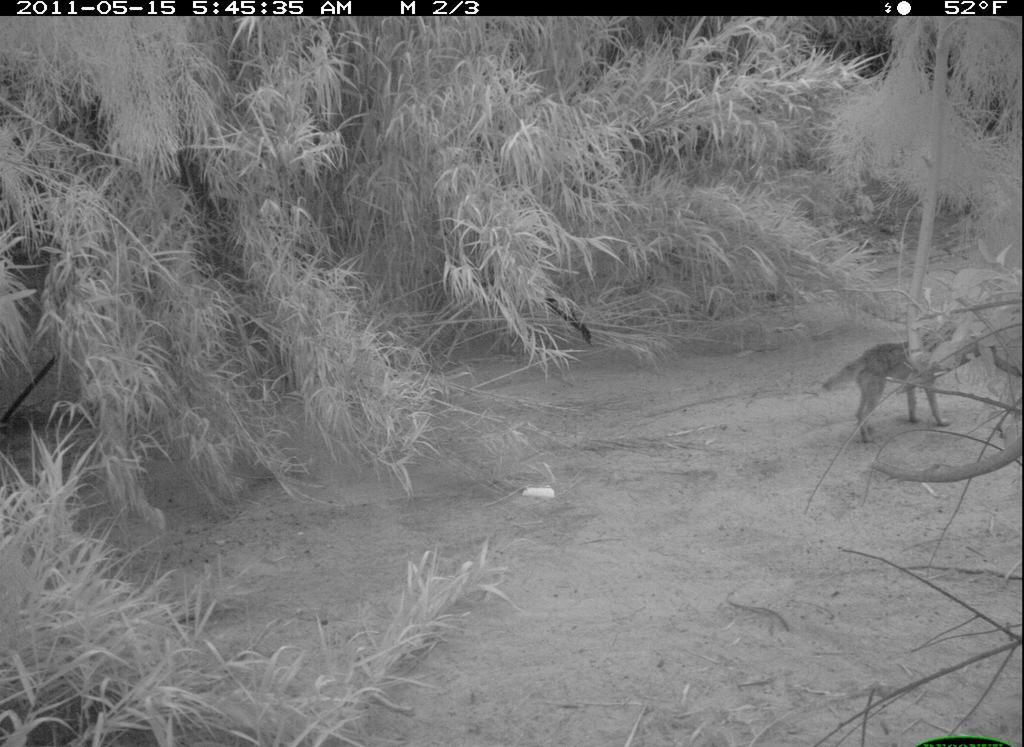coyote: (821, 321, 982, 447)
